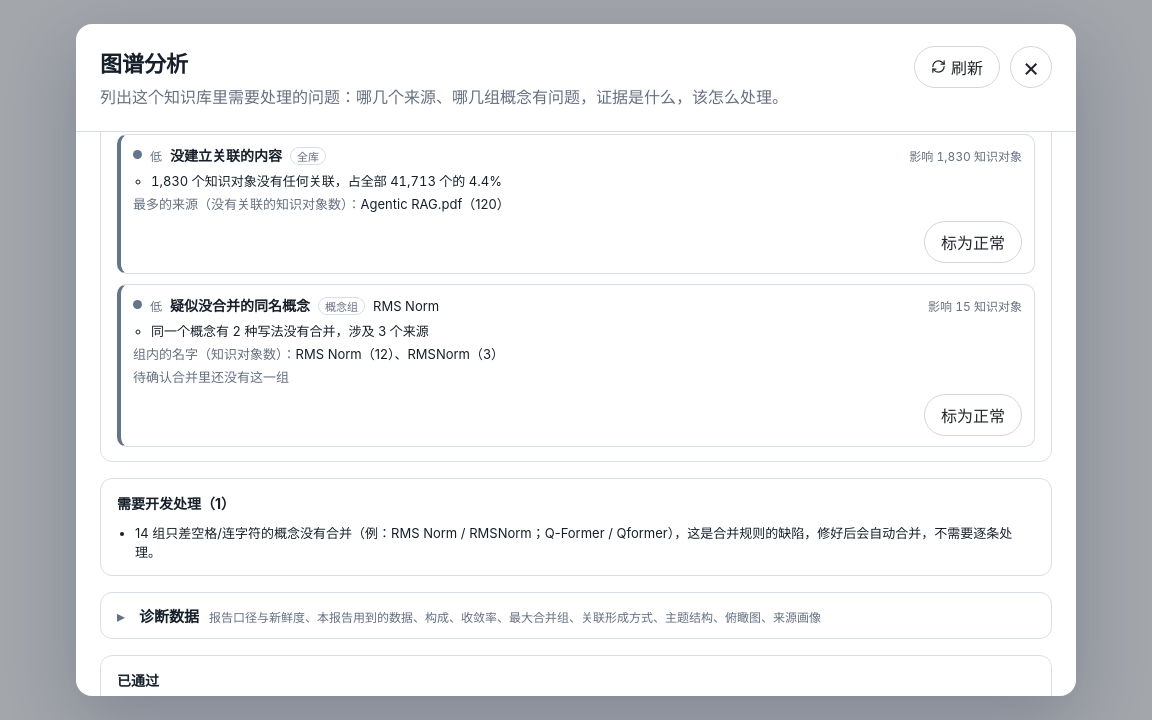
Test: 标为正常失败：原因写在按钮旁，按钮恢复可点
(page scrolled)
Click the button "标为正常" below "影响 15 知识对象" at (973, 414), box 924,394 -> 1022,436
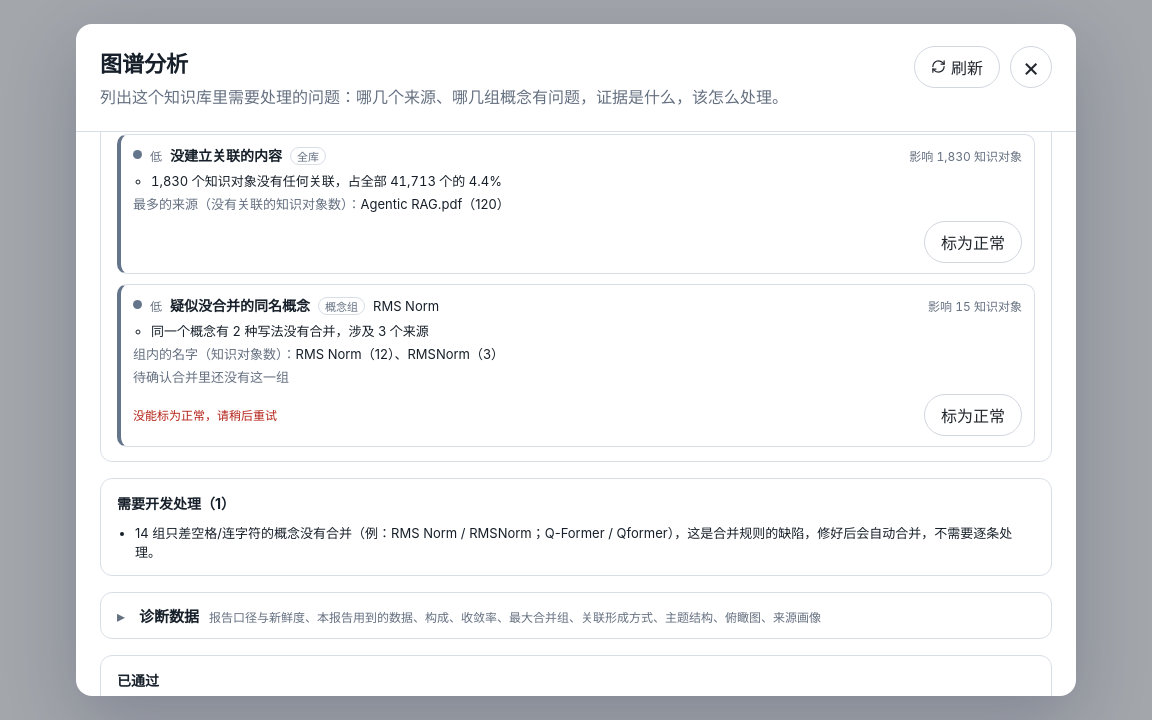
expect the text "没能标为正常，请稍后重试" is shown: met, box 133,406 -> 277,423
